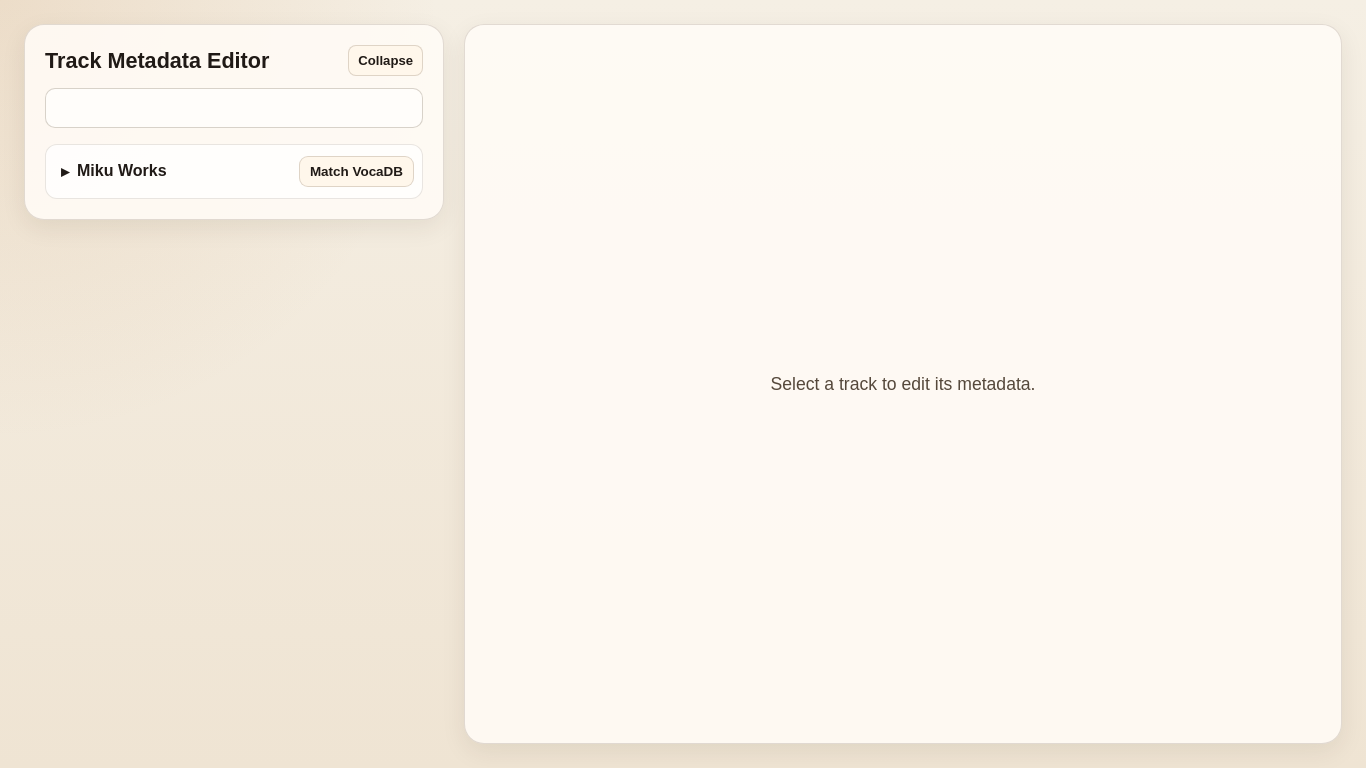
Test case: App › starts with album groups collapsed until an album is expanded
Expected: the button "01 glow" is not shown
Click the button "▸ Miku Works". click: (172, 172)
box: [54, 153, 291, 190]
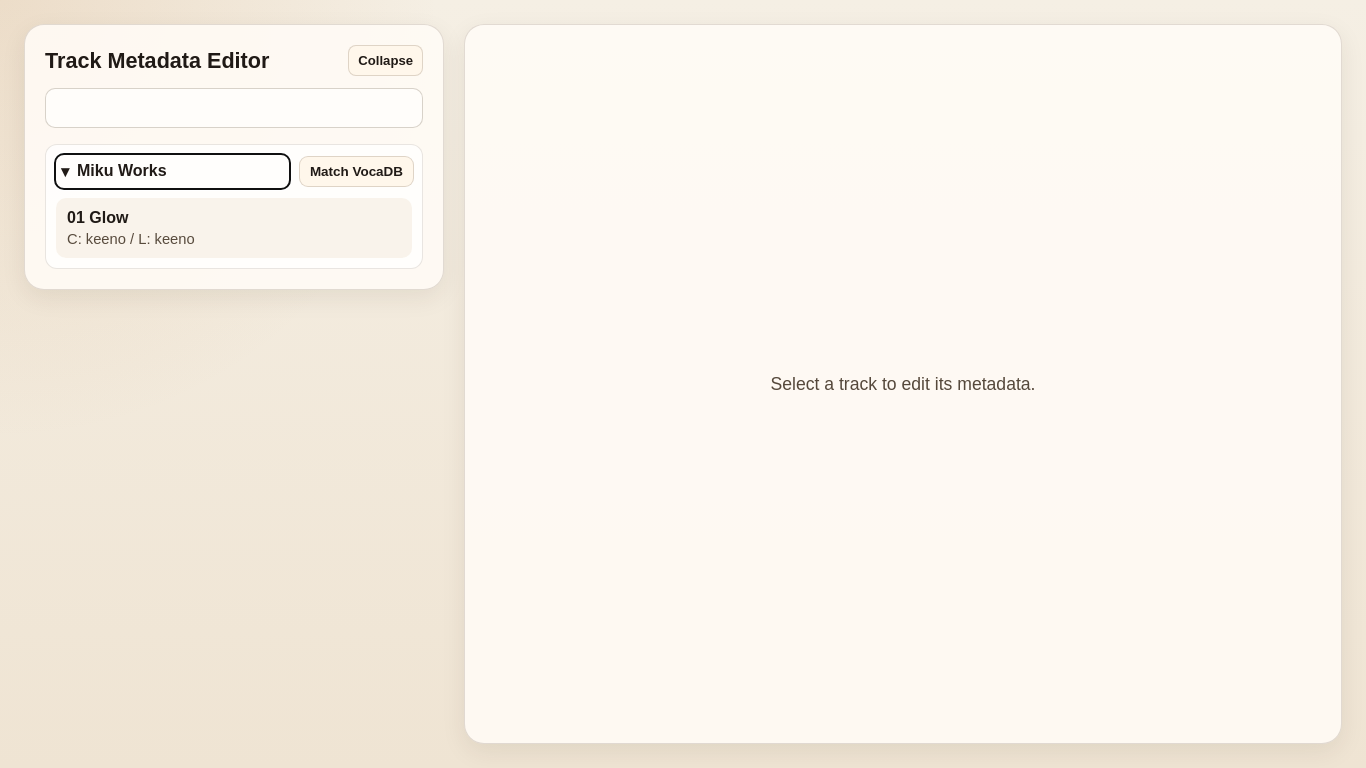
Result: the button "01 Glow C: keeno / L: keeno" is shown at [56, 198, 412, 258]
